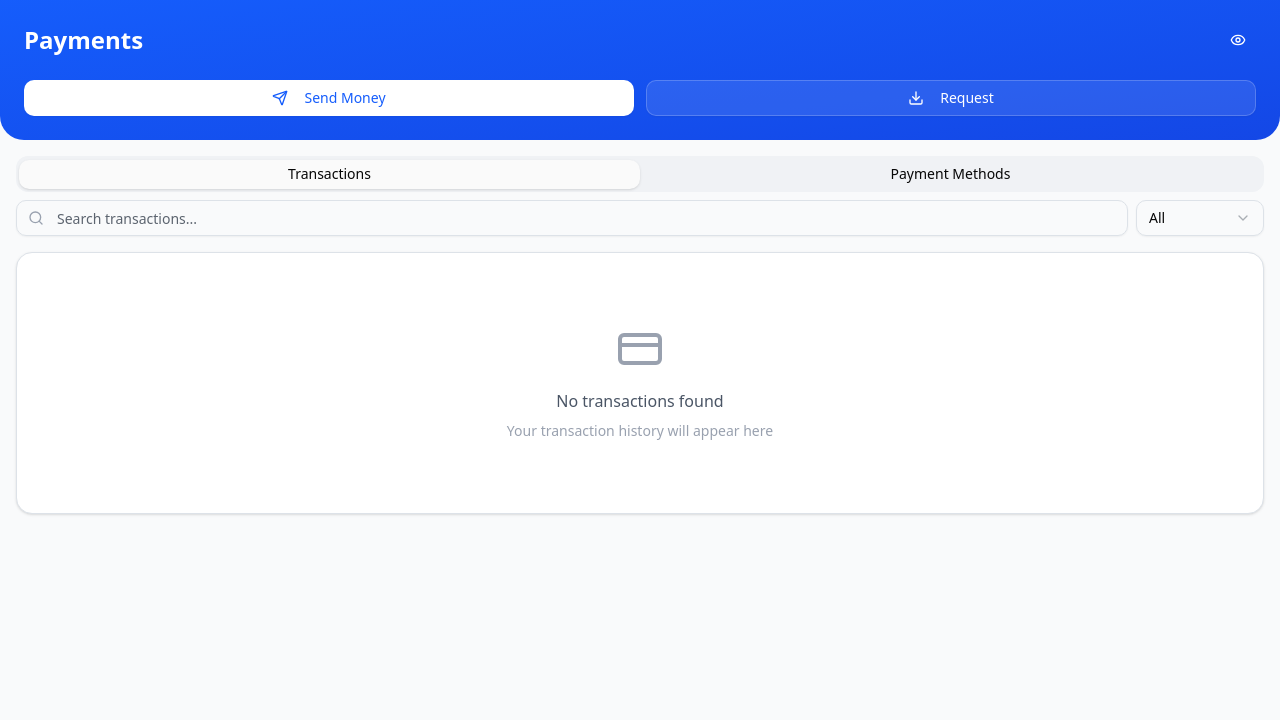
it: MobilePaymentsModule › opens new payment dialog
Click the button "Send Money": (329, 98) [24, 80, 634, 116]
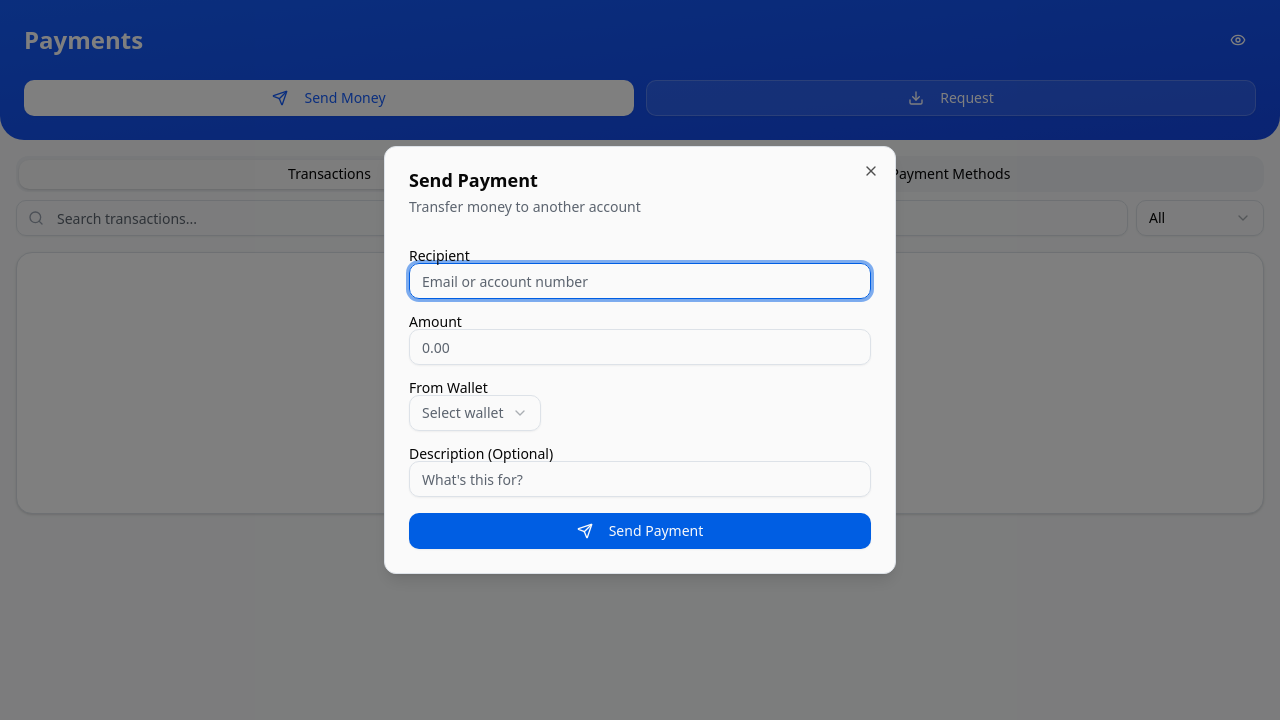
Result: the heading "Send Payment" is shown at [409, 168, 538, 192]
